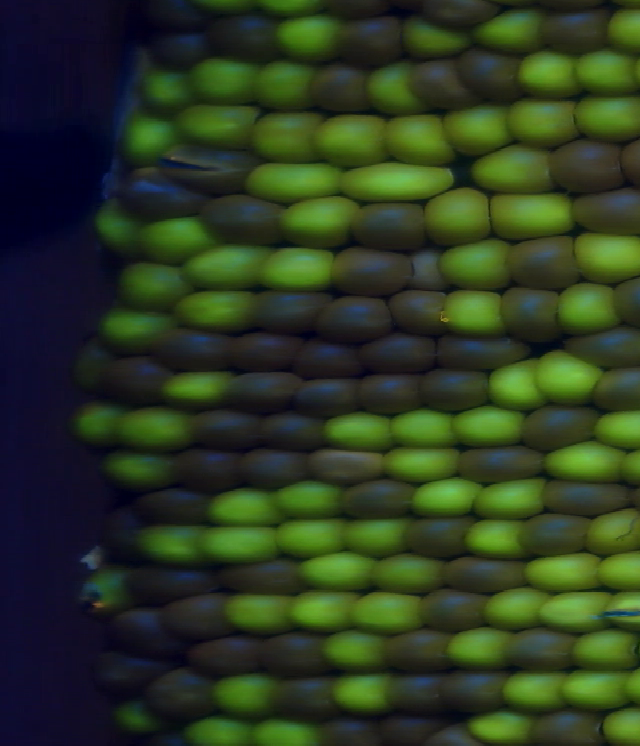fluorescent: (339, 159, 452, 201), (243, 160, 341, 202), (438, 236, 509, 293), (309, 117, 388, 168), (281, 195, 358, 246), (426, 187, 493, 244), (472, 142, 551, 190), (503, 101, 578, 151), (251, 107, 318, 162), (141, 216, 218, 263), (491, 192, 569, 238), (388, 112, 452, 168), (183, 247, 270, 287), (171, 290, 253, 332), (573, 232, 640, 283), (263, 245, 334, 293), (119, 262, 187, 310), (538, 348, 597, 402), (192, 60, 259, 107), (253, 60, 313, 112), (571, 627, 640, 672), (347, 592, 421, 633), (518, 50, 579, 99), (547, 443, 623, 482), (445, 628, 512, 672), (448, 110, 512, 156), (101, 307, 171, 349), (475, 476, 543, 519), (369, 62, 422, 117), (574, 47, 633, 96), (90, 197, 143, 251), (526, 553, 603, 590), (178, 104, 248, 144), (452, 405, 522, 445), (543, 591, 608, 634), (558, 283, 616, 331), (277, 17, 340, 61), (324, 409, 393, 449), (201, 525, 277, 561), (298, 554, 374, 590), (558, 671, 628, 710), (490, 359, 543, 410), (486, 589, 550, 631), (277, 517, 344, 557), (399, 18, 469, 56), (444, 289, 503, 334), (212, 487, 280, 526), (322, 632, 388, 672), (123, 116, 177, 164), (390, 410, 458, 448), (381, 444, 457, 478), (374, 554, 442, 592), (478, 12, 542, 52), (573, 97, 640, 135), (123, 406, 188, 445), (140, 71, 192, 118), (588, 507, 640, 554), (344, 519, 406, 558), (213, 677, 273, 716), (501, 673, 566, 709), (413, 482, 479, 517), (228, 597, 292, 633), (290, 593, 350, 631), (336, 671, 393, 711), (138, 525, 199, 562), (272, 485, 338, 519), (70, 402, 123, 441), (249, 717, 320, 746), (164, 372, 225, 405), (109, 454, 169, 486), (188, 717, 254, 746), (593, 409, 640, 449), (464, 520, 522, 552), (80, 572, 128, 610), (473, 712, 527, 742), (597, 553, 640, 590), (603, 10, 640, 52), (603, 707, 640, 744), (607, 591, 640, 631), (121, 700, 149, 731)
nonfluorescent: (550, 135, 623, 194), (196, 192, 282, 242), (162, 148, 258, 189), (125, 167, 198, 220), (457, 46, 521, 105), (509, 237, 583, 287), (353, 200, 423, 252), (417, 589, 493, 634), (421, 367, 495, 413), (207, 18, 278, 65), (251, 292, 324, 337), (333, 250, 415, 290), (440, 555, 526, 593), (497, 290, 558, 342), (107, 357, 168, 409), (540, 482, 633, 516), (407, 61, 473, 108), (150, 671, 207, 725), (539, 7, 605, 53), (433, 337, 522, 371), (131, 567, 214, 603), (158, 330, 232, 370), (324, 296, 396, 337), (383, 629, 451, 672), (571, 191, 640, 233), (522, 408, 596, 447), (340, 17, 401, 64), (442, 676, 510, 718), (219, 562, 300, 597), (568, 327, 640, 366), (186, 637, 261, 674), (360, 334, 433, 372), (459, 447, 538, 482), (228, 370, 297, 410), (271, 675, 340, 715), (407, 514, 471, 557), (312, 62, 367, 112), (394, 287, 452, 334), (163, 595, 223, 640), (118, 607, 173, 656), (261, 633, 328, 673), (237, 450, 309, 487), (253, 412, 323, 450), (300, 337, 360, 381), (509, 629, 573, 670), (357, 373, 418, 415), (168, 449, 234, 487), (341, 479, 414, 513), (293, 380, 360, 417), (231, 335, 301, 370), (140, 1, 205, 38), (188, 409, 251, 447), (140, 489, 208, 524), (104, 652, 167, 689), (530, 712, 598, 746), (313, 450, 385, 482), (150, 32, 205, 72), (589, 365, 640, 408), (111, 508, 143, 566), (387, 672, 438, 708), (373, 717, 429, 746), (321, 714, 369, 746)
